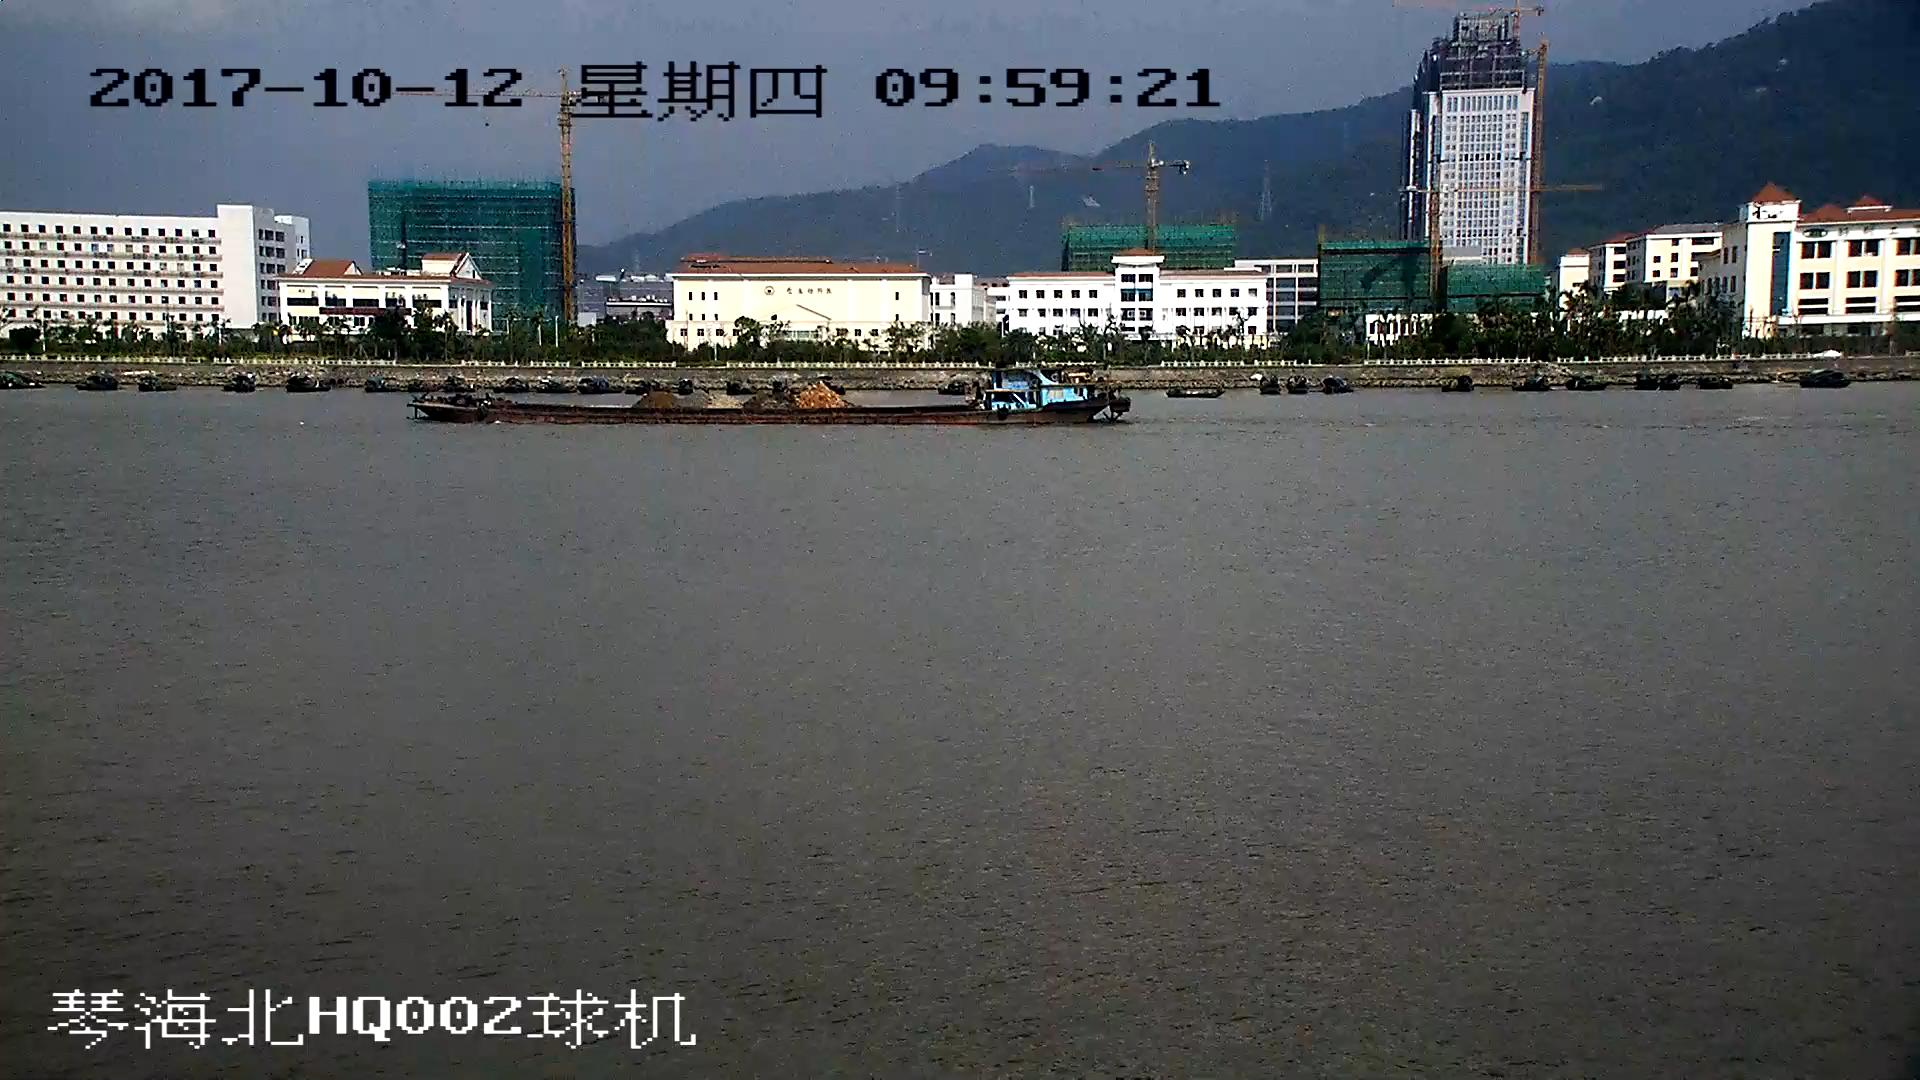ore carrier: (412, 362, 1132, 429)
